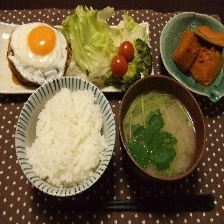rice: (21, 85, 109, 191)
